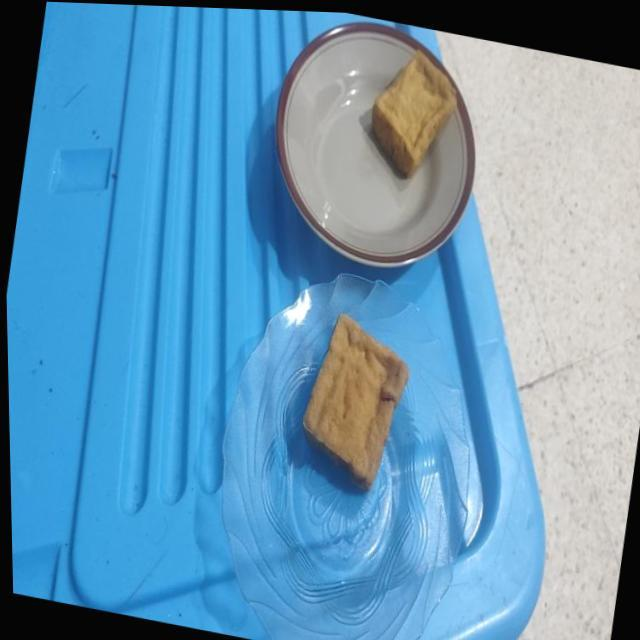tahu_goreng: (304, 314, 409, 492), (372, 51, 456, 178)
